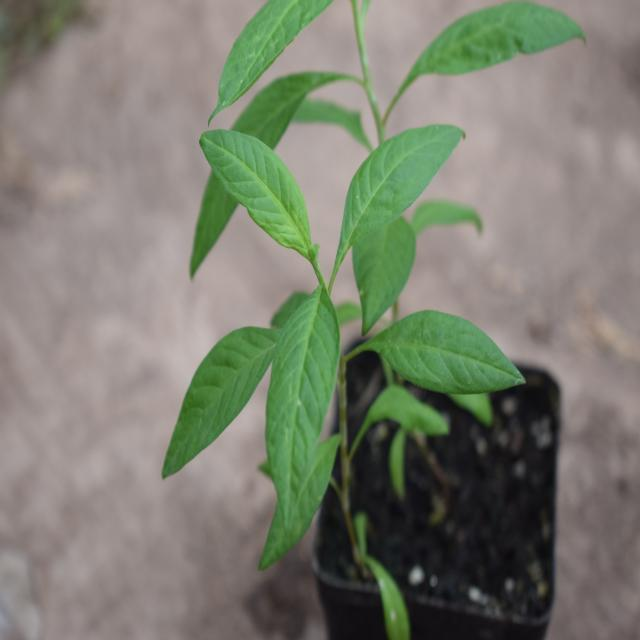white_smart_weed: (158, 96, 516, 553)
